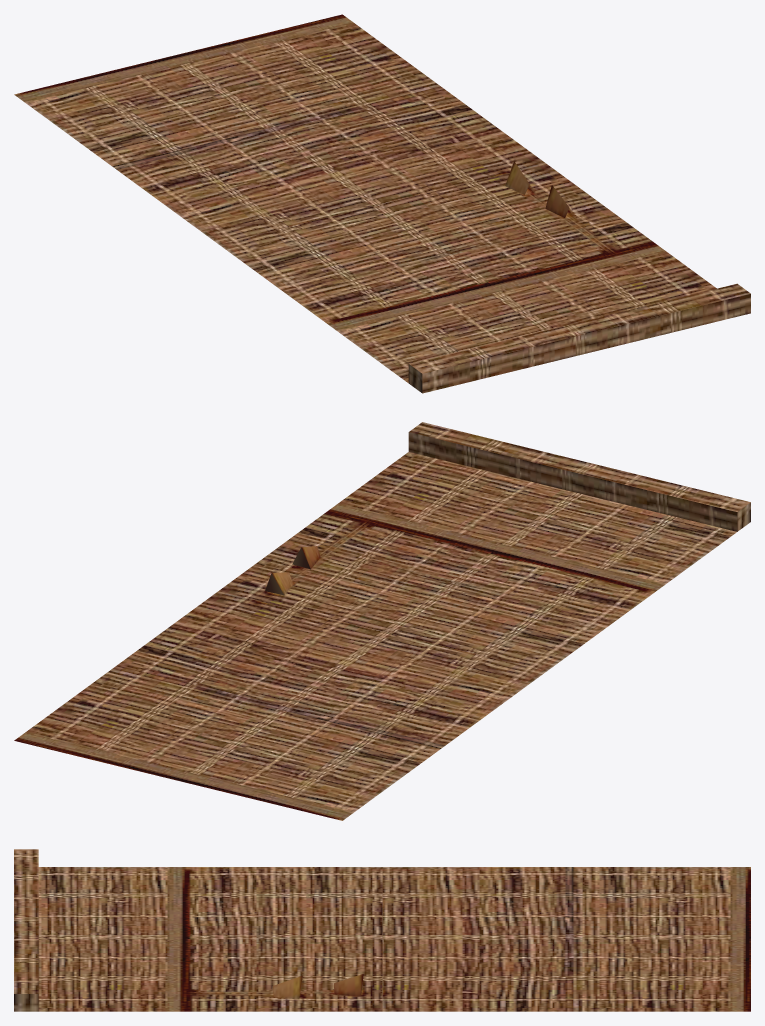
The model's file is blinds_bamboo02.fbx.
3 renders of one model, top to bottom at view 1: azimuth 30°, elevation 25°; view 2: azimuth 150°, elevation 25°; view 3: azimuth 270°, elevation 25°, orthographic. The views are drawn at different scales.
Parts seen in each view (by area): view 1: mesh_0; view 2: mesh_0; view 3: mesh_0.
Part boxes in pixels (x1,y1,x2,y2): mesh_0: (14,14,750,393); mesh_0: (14,422,750,820); mesh_0: (14,849,750,1011).
Bounding box in the file's own units: 104 × 6.71 × 225.
1 material, 1 textured.
